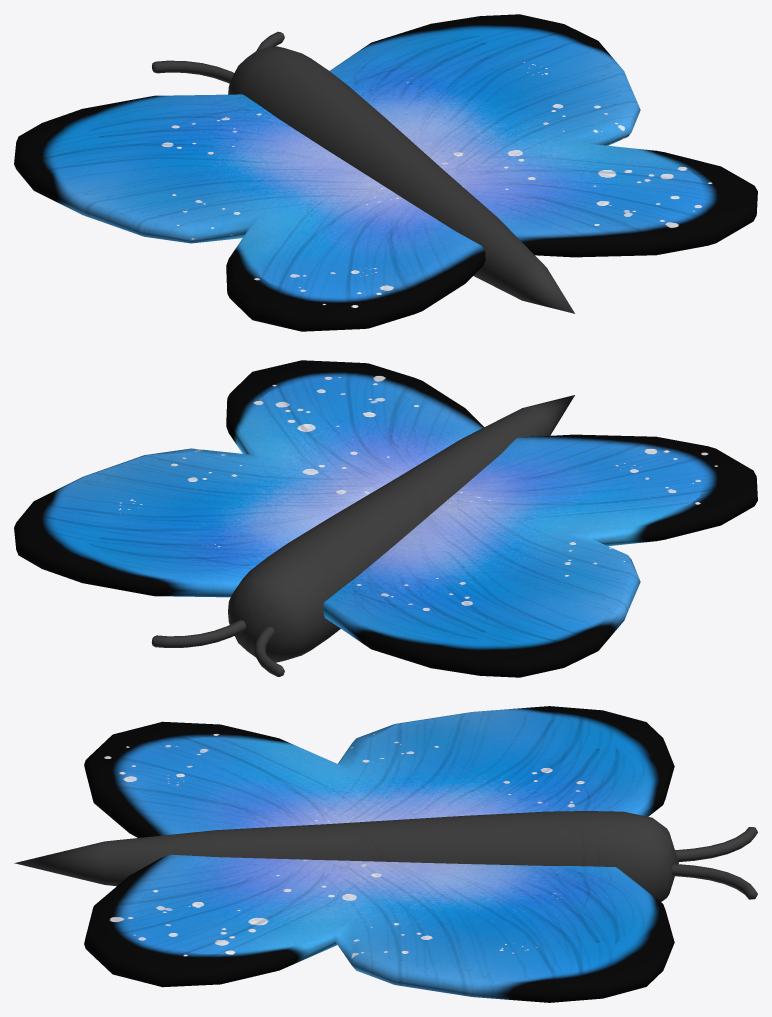
Rendered from tyoutyo_lv2.fbx.
3 views of the same model, one above another, from view 1: azimuth 30°, elevation 25°; view 2: azimuth 150°, elevation 25°; view 3: azimuth 270°, elevation 25° (orthographic). The views are drawn at different scales.
Parts seen in each view (by area): view 1: 平面.004, 平面.005, 円柱.001; view 2: 平面.004, 平面.005, 円柱.001; view 3: 平面.005, 平面.004, 円柱.001.
Boxes of the visible parts, <box> form: 平面.004: <box>14,94,485,331</box>; 平面.005: <box>330,14,757,257</box>; 円柱.001: <box>152,31,574,313</box>; 平面.004: <box>323,434,757,677</box>; 平面.005: <box>14,360,483,597</box>; 円柱.001: <box>151,395,574,676</box>; 平面.005: <box>84,854,674,1002</box>; 平面.004: <box>84,706,674,837</box>; 円柱.001: <box>14,811,757,901</box>.
Size of the model in its own units: 1233 by 191 by 1351.
